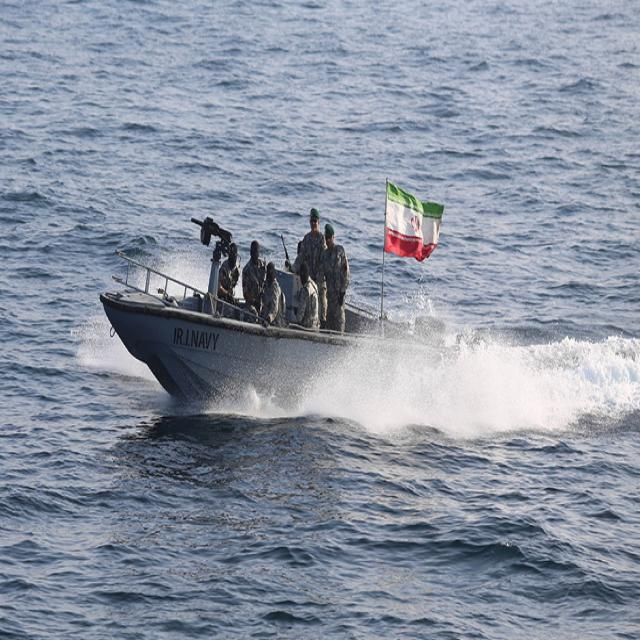houseboat: (92, 185, 544, 416)
